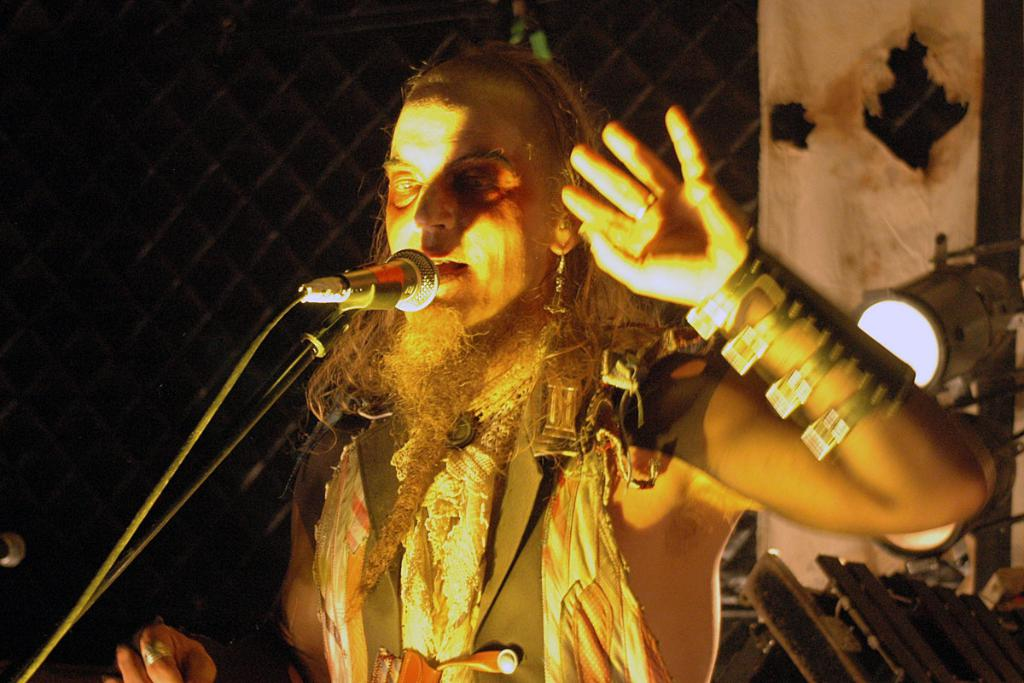Human_hand: (561, 111, 771, 294), (95, 623, 219, 682)
